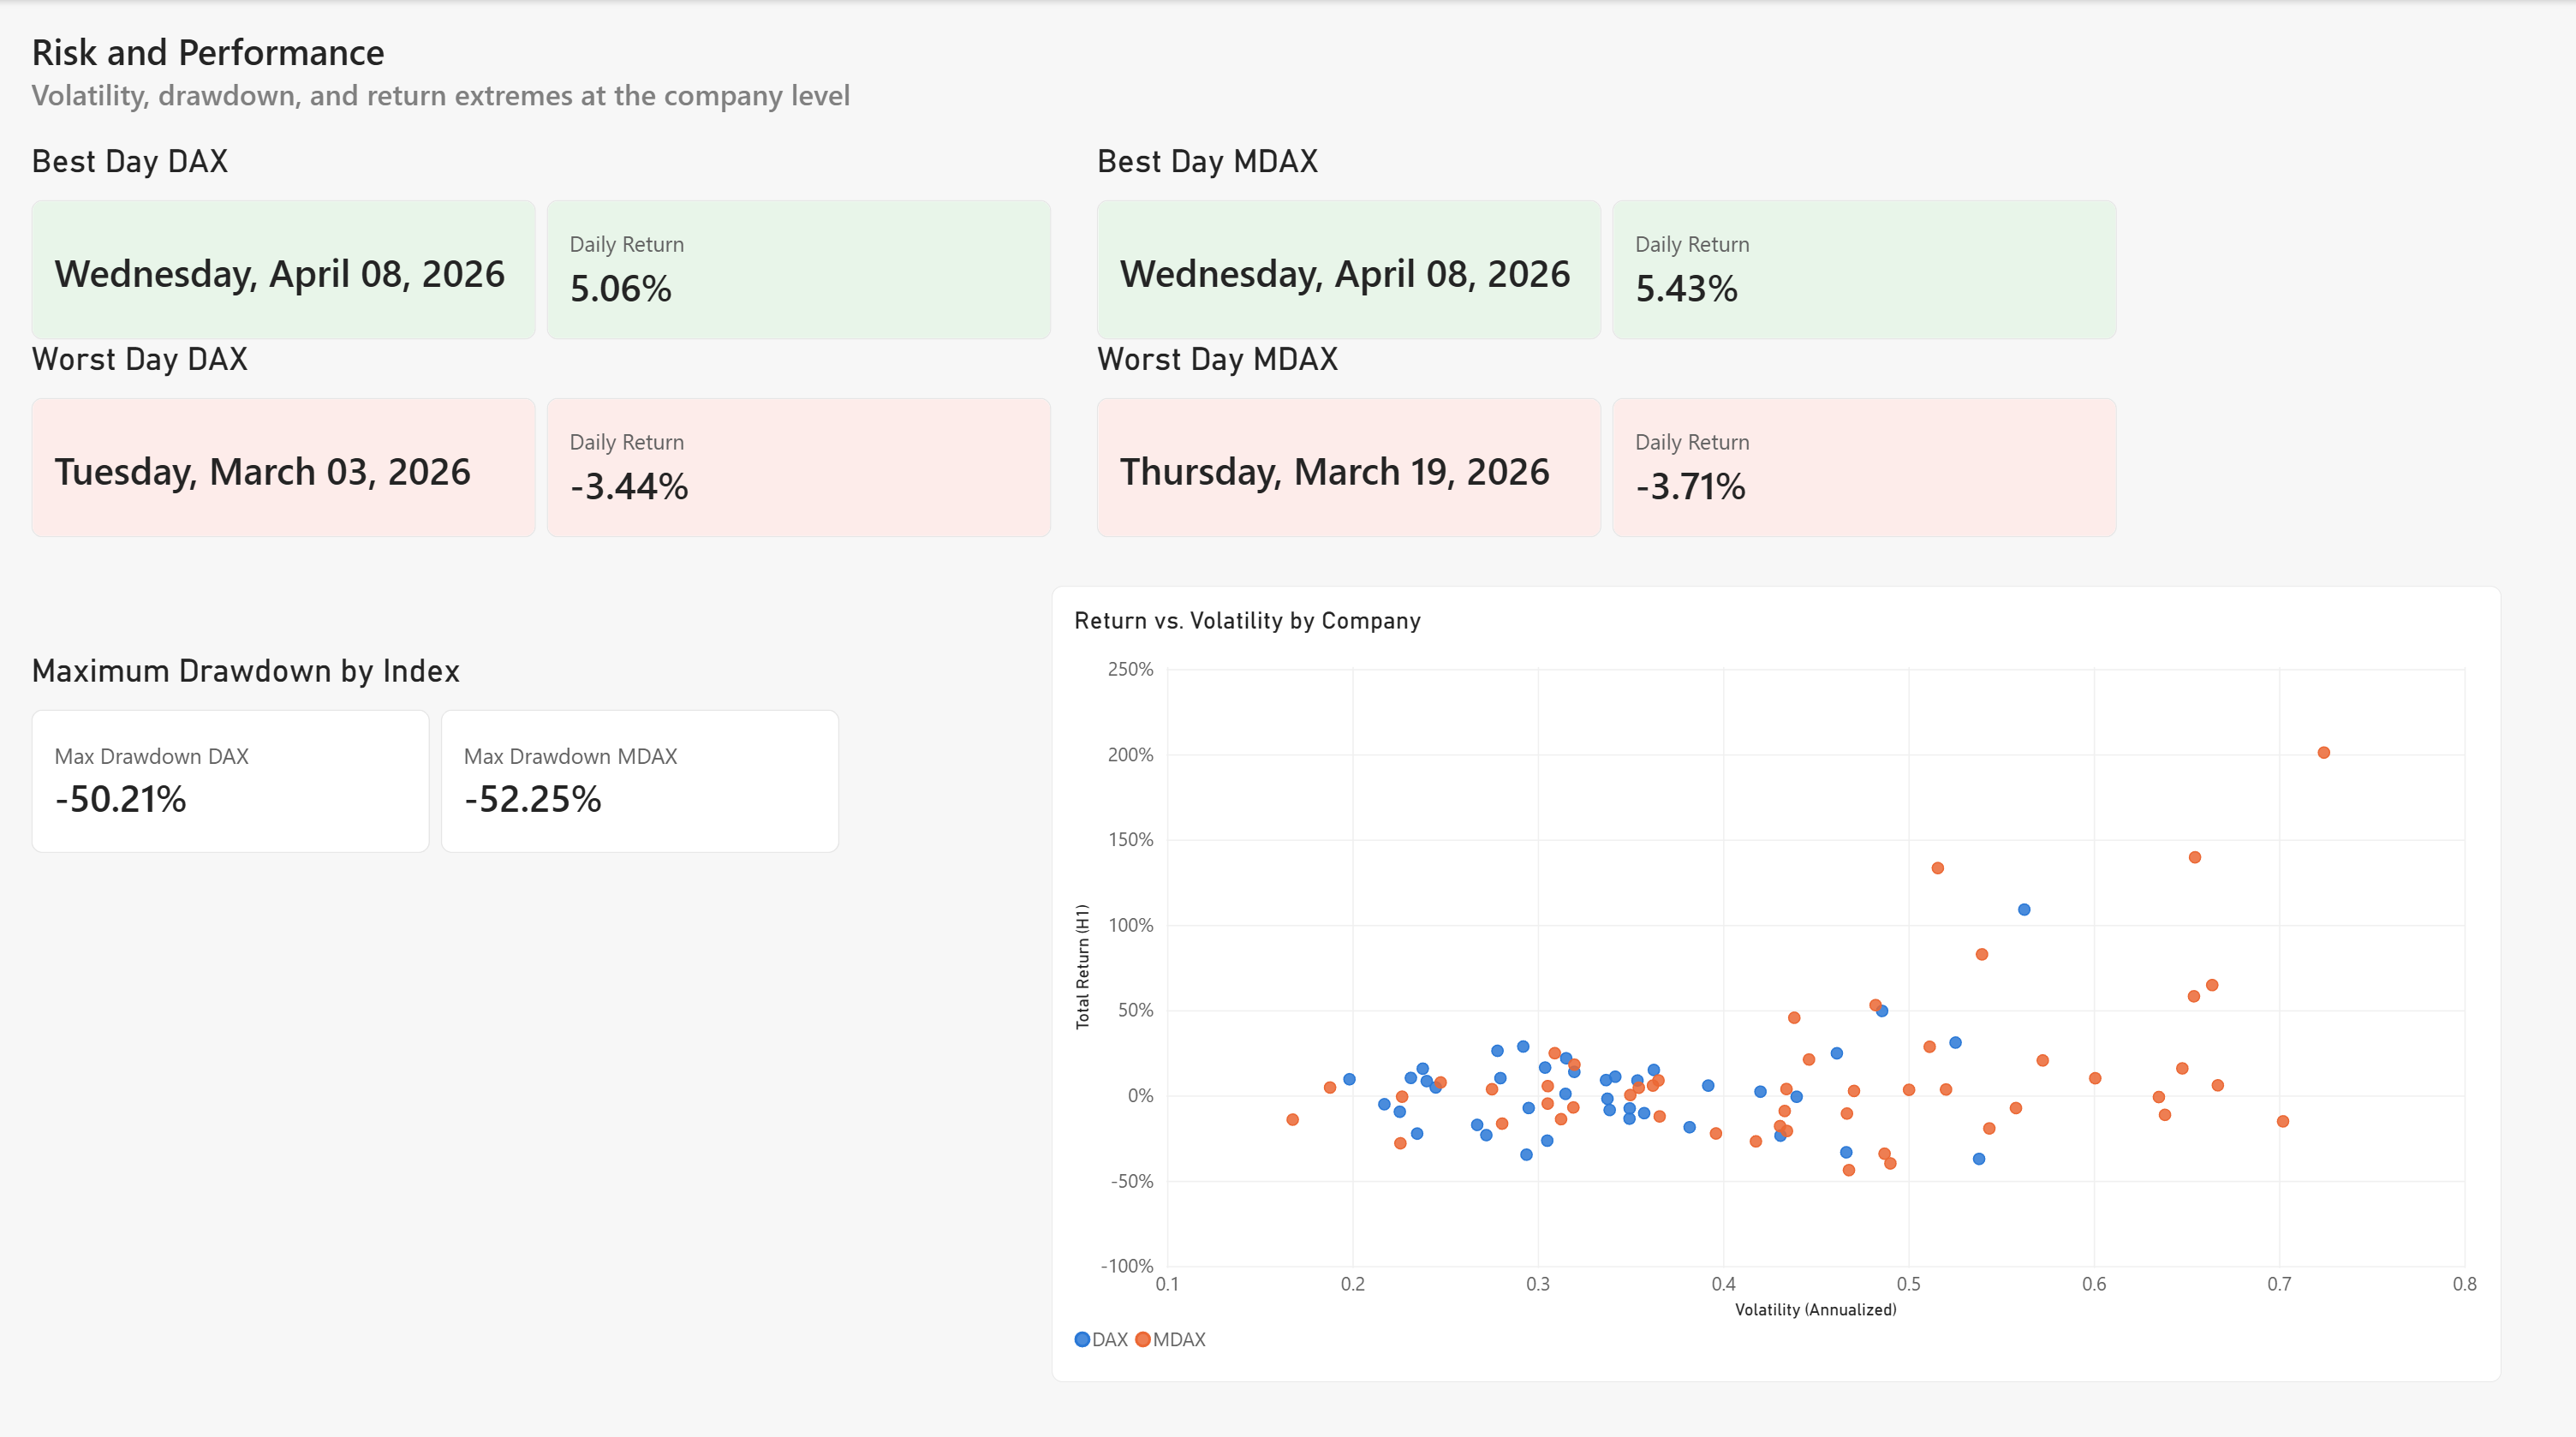

This screenshot's page, from the dashboard's own definition file:
{"tool":"powerbi","page":{"name":"Risk and Performance","canvas":[1920,1080],"ordinal":1},"visuals":[{"type":"scatterChart","title":"Return vs. Volatility by Company","fields":{"Category":["Fact_CompanySummary.name"],"Series":["Fact_CompanySummary.index_group"],"X":["Sum(Fact_CompanySummary.volatility_annualized)"],"Y":["Sum(Fact_CompanySummary.total_return)"]},"box":[784.7,437,1079.8,593.1],"z":0},{"type":"textbox","box":[24.1,19.9,627.2,150.4],"z":1000},{"type":"cardVisual","title":"Worst Day DAX","fields":{"Data":["Min(Fact_DailyMarketData.date)","Sum(Fact_DailyMarketData.daily_return)"]},"box":[24.1,254,760.5,147.6],"z":2000},{"type":"cardVisual","title":"Best Day MDAX","fields":{"Data":["Min(Fact_DailyMarketData.date)","Sum(Fact_DailyMarketData.daily_return)"]},"box":[818.7,106.4,760.5,147.6],"z":3000},{"type":"cardVisual","title":"Worst Day MDAX","fields":{"Data":["Min(Fact_DailyMarketData.date)","Sum(Fact_DailyMarketData.daily_return)"]},"box":[818.7,254,760.5,147.6],"z":4000},{"type":"cardVisual","title":"Best Day DAX","fields":{"Data":["Min(Fact_DailyMarketData.date)","Sum(Fact_DailyMarketData.daily_return)"]},"box":[24.1,106.4,760.5,147.6],"z":5000},{"type":"cardVisual","title":"Maximum Drawdown by Index","fields":{"Data":["_Mesures.Max Drawdown DAX","_Mesures.Max Drawdown MDAX"]},"box":[24.1,485.3,603,150.4],"z":6000}]}

Visuals, with their boxes in screenshot pixels (x1, y1, x2, y2), scaled from the page's 1920x1080 canvas onto the 2576x1437 screenshot:
"Return vs. Volatility by Company" scatterChart: 1052 581 2501 1370
textbox: 33 27 874 227
"Worst Day DAX" cardVisual: 33 338 1052 534
"Best Day MDAX" cardVisual: 1099 141 2119 338
"Worst Day MDAX" cardVisual: 1099 338 2119 534
"Best Day DAX" cardVisual: 33 141 1052 338
"Maximum Drawdown by Index" cardVisual: 33 646 841 846
